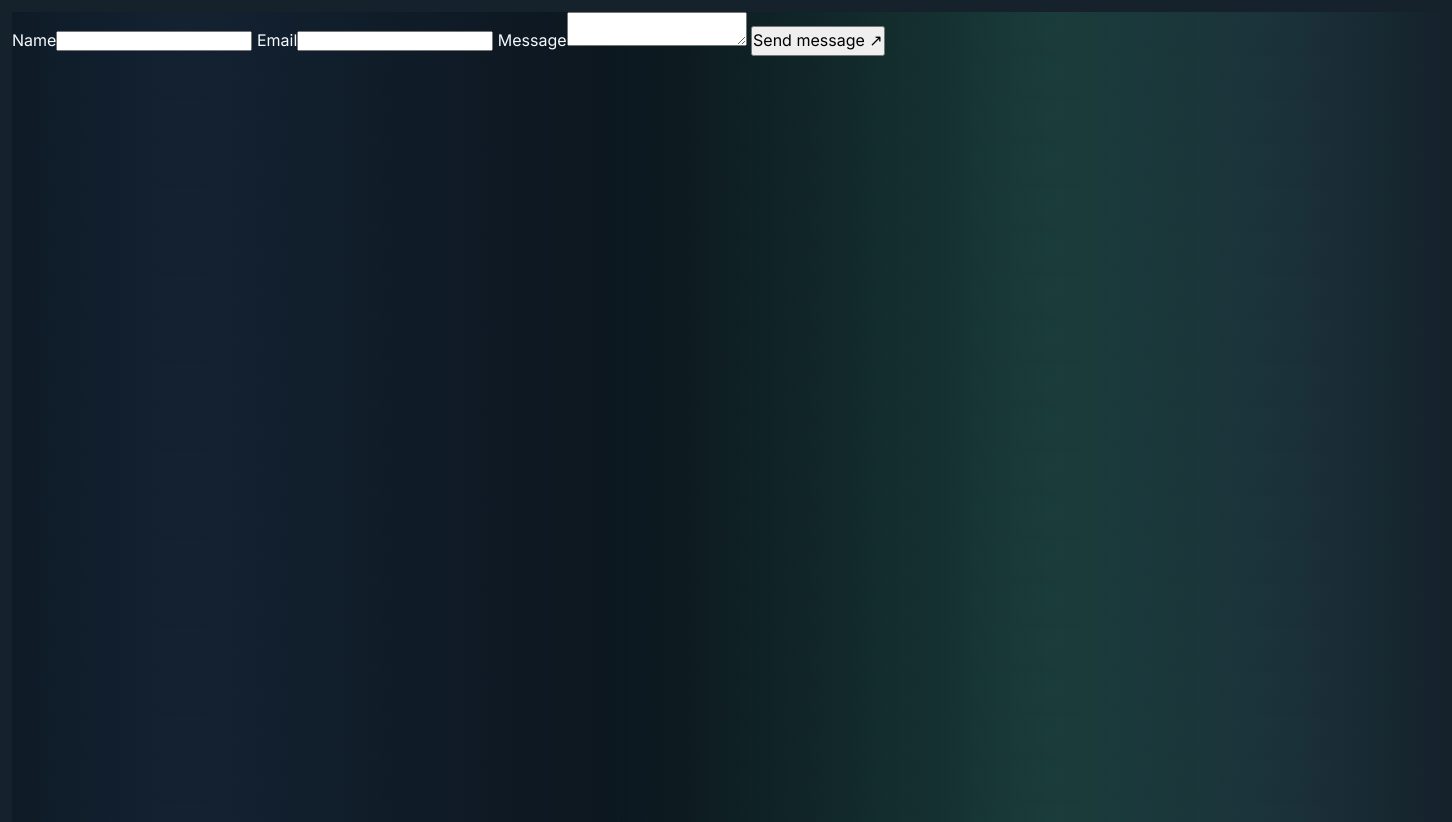
Test case: EmailJS contact bridge › preserves values and announces a failed request
Type "  Akshay Visitor  " into the field labelled "Name".
click(154, 41); type("  Akshay Visitor  ")  # box [56, 31, 252, 51]
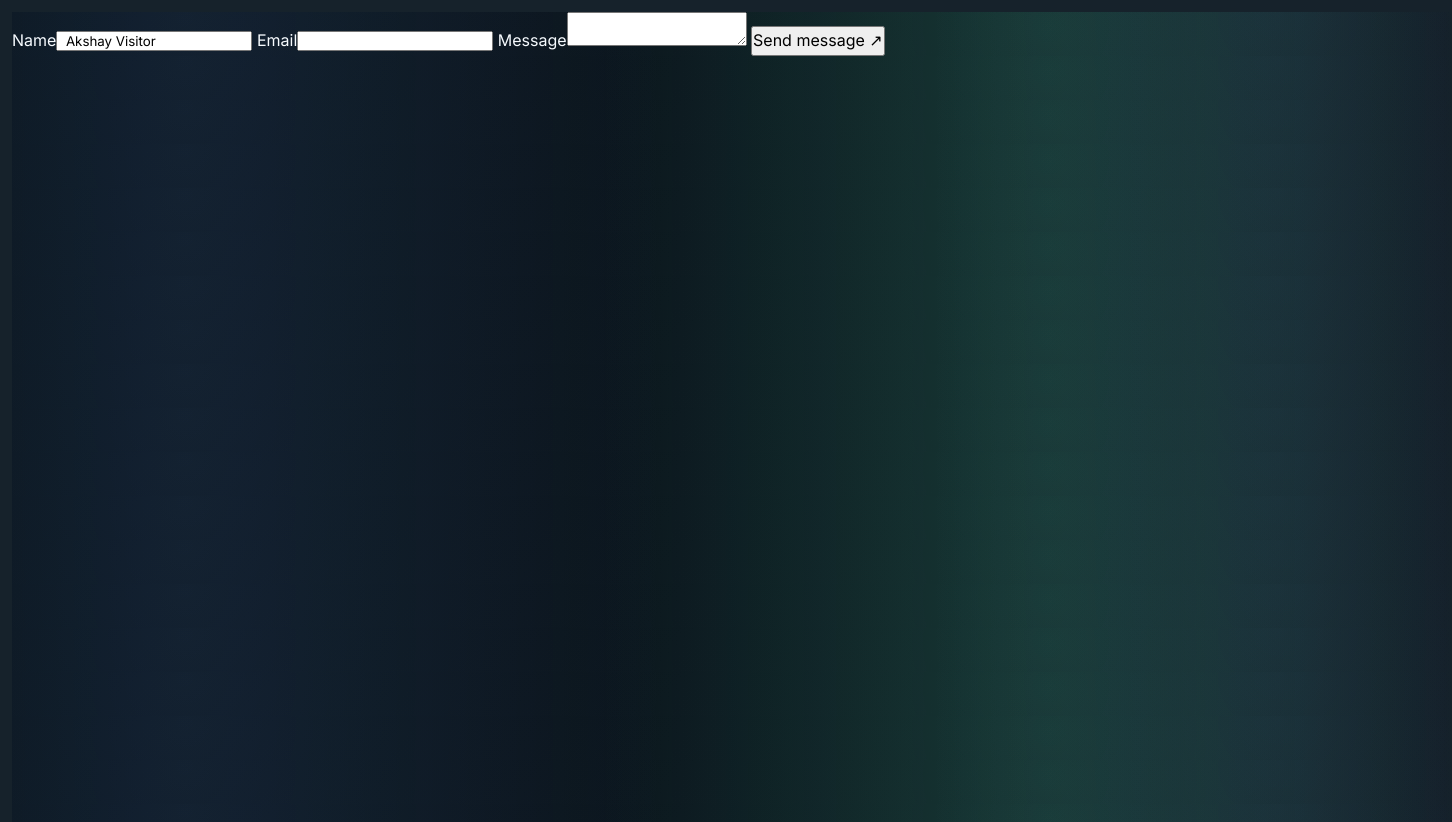
Type "  visitor@example.com  " into the field labelled "Email".
click(395, 41); type("  visitor@example.com  ")  # box [297, 31, 493, 51]
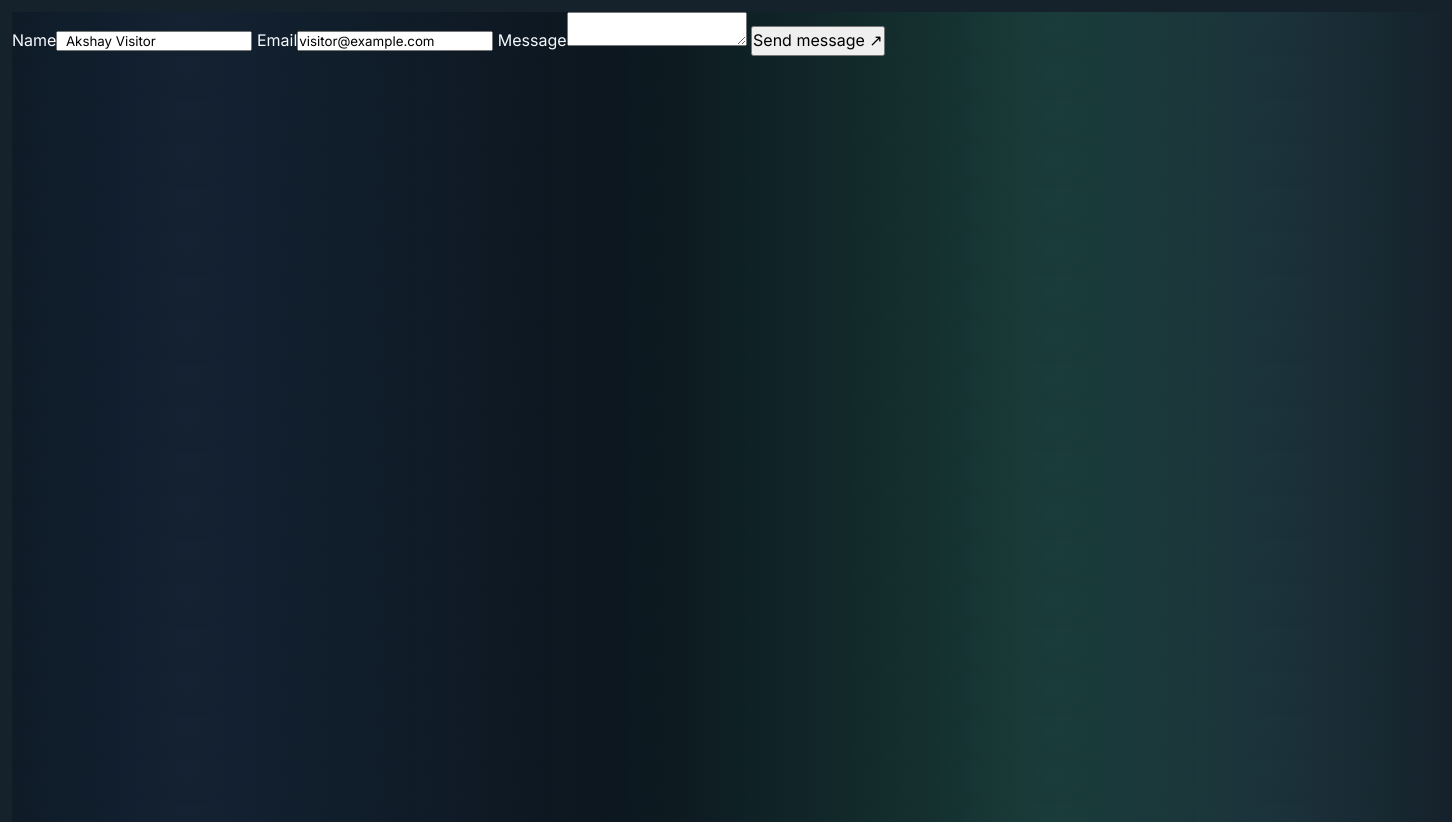
Type "  A useful message  " into the text box labelled "Message".
click(657, 29); type("  A useful message  ")  # box [567, 12, 747, 46]
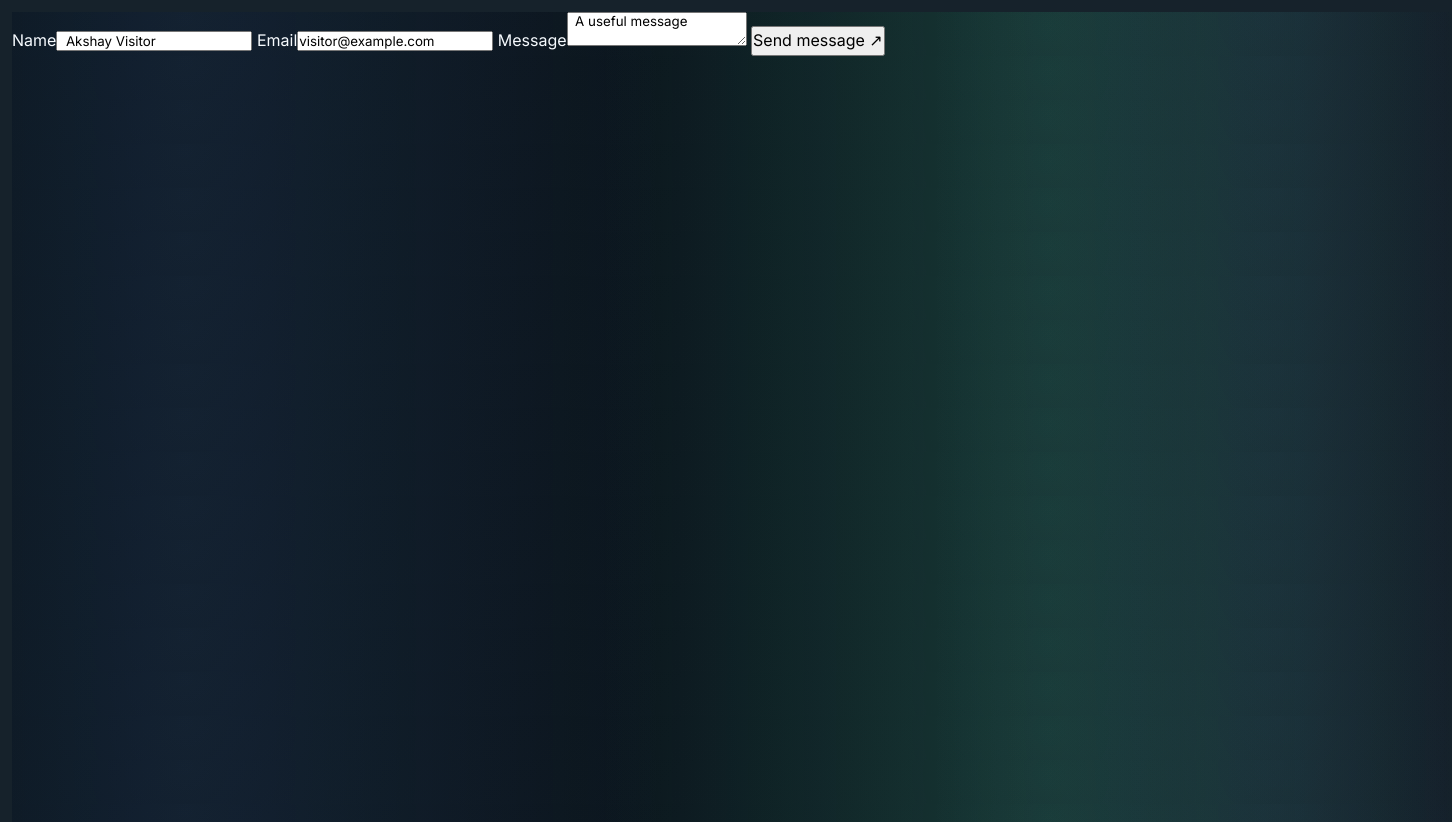
Submit the form with id "conversationForm", box [12, 12, 885, 56]
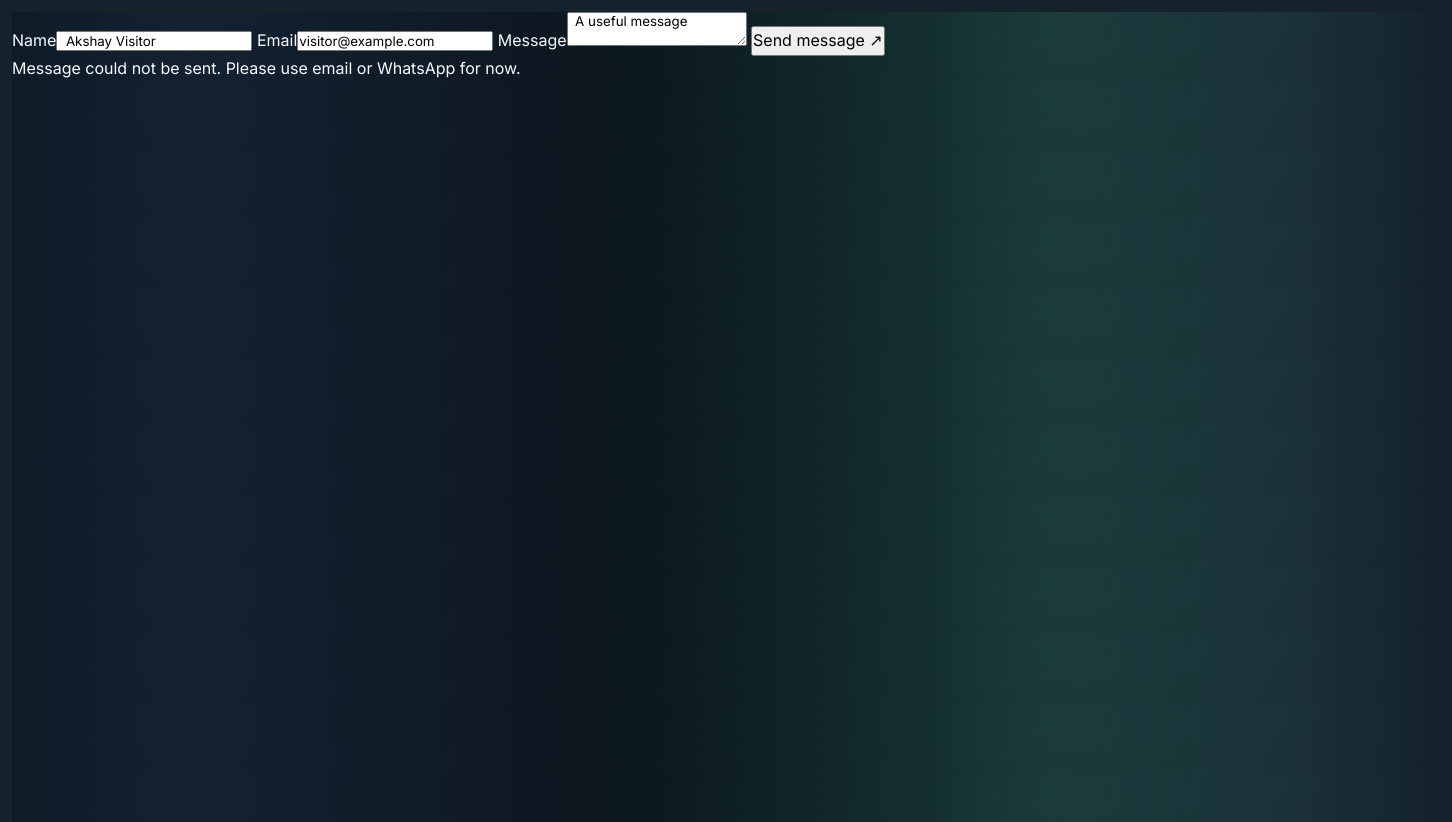
Expected: the button is enabled, [751, 26, 885, 56]
Now the message reads "Message could not be sent. Please use email or WhatsApp for now.", box [12, 58, 521, 78]
